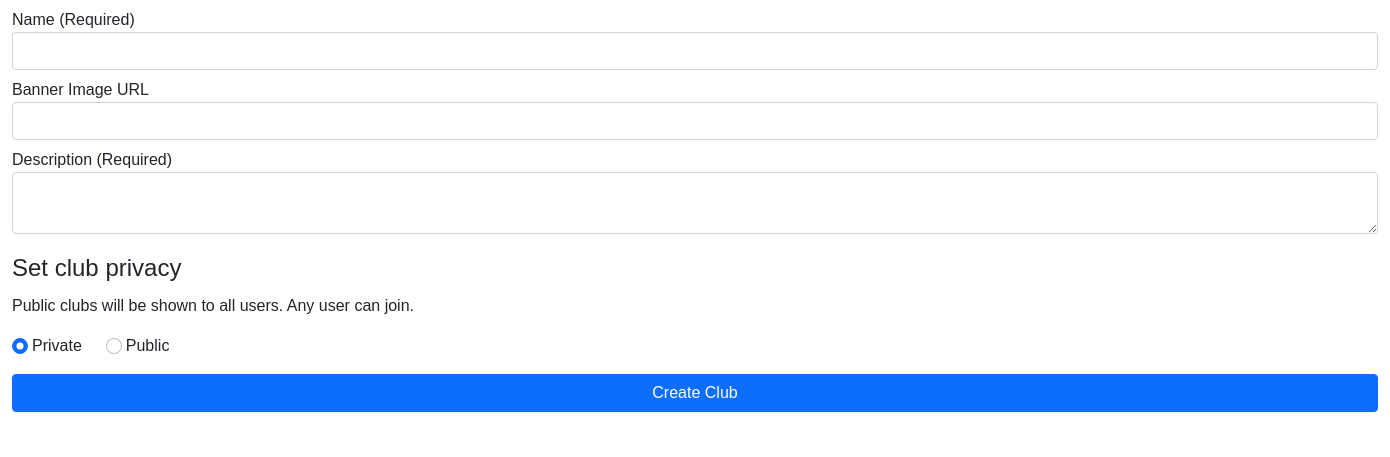
Test: NewClubForm › Shows validation error when name is greater than 30 characters
The width and height of the screenshot is (1390, 457).
Shows error on submit because current input is invalid
Type "aksdkajsndkankdjsnkandkndjsankjdnkajn" into the field labelled "Name (Required)". click: (695,51)
box: [12,32,1378,70]
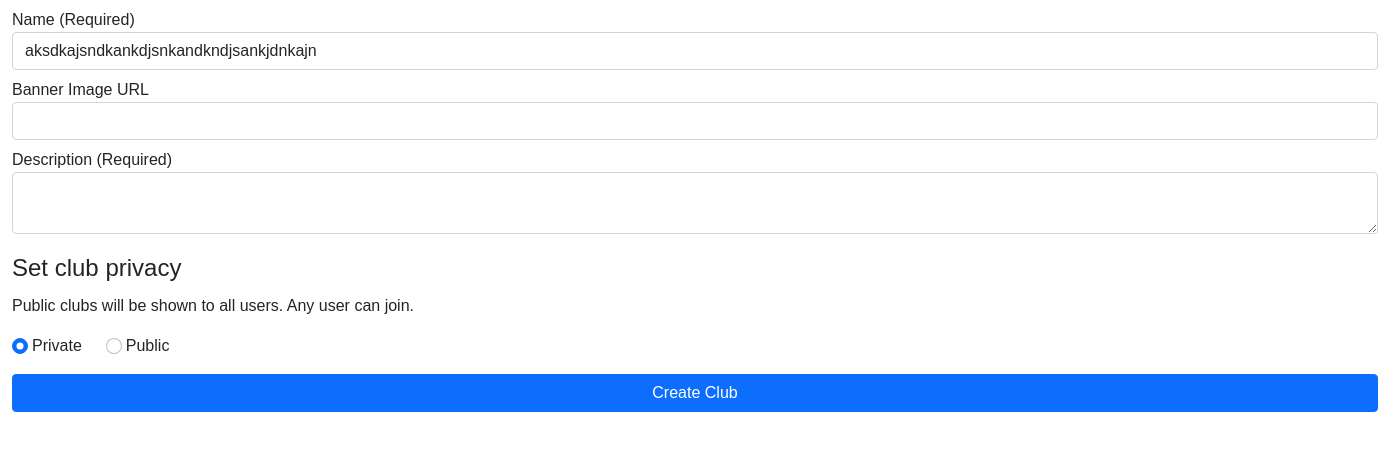
Click the button "Create Club". click: (695,393)
box: [12,374,1378,412]
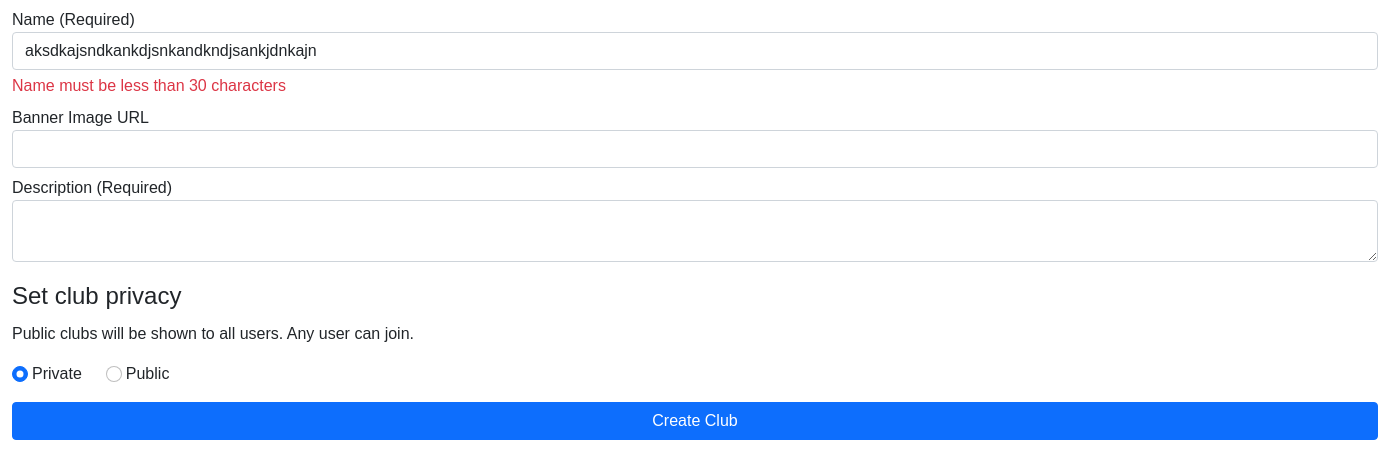
Result: the text "Name must be less than 30 characters" is shown at [12,77,286,94]
